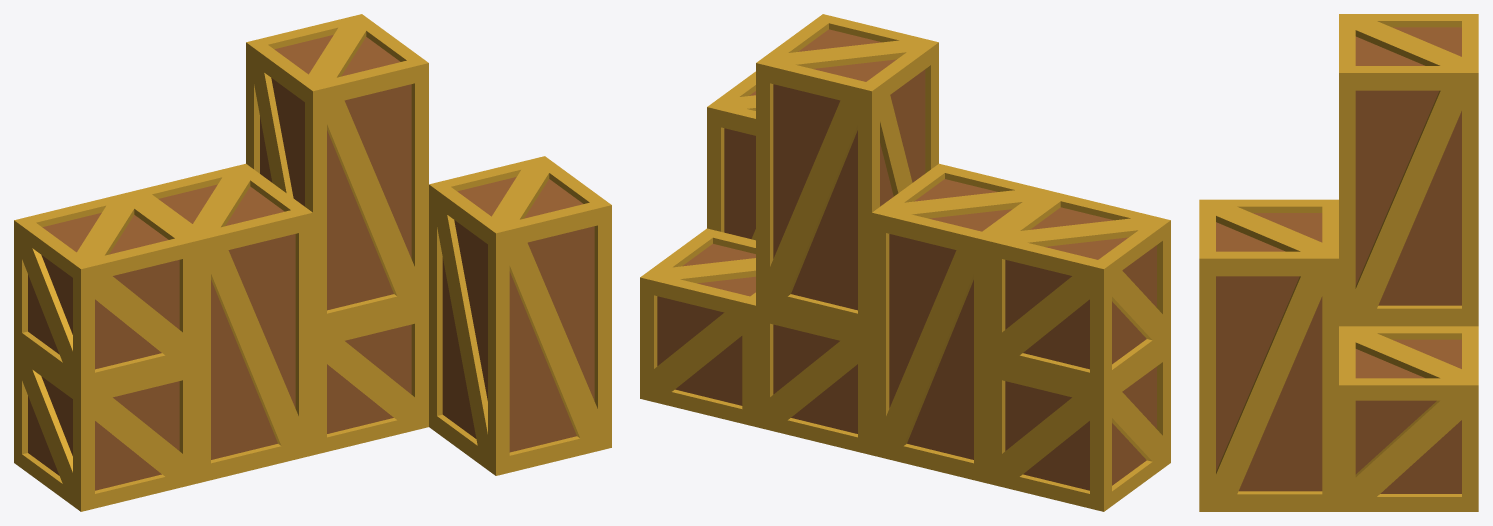
Rendered from CargoBoxes.fbx.
3 renders of one model, left to right at view 1: azimuth 30°, elevation 25°; view 2: azimuth 150°, elevation 25°; view 3: azimuth 270°, elevation 25°, orthographic. The views are drawn at different scales.
Visible parts, largest first — view 1: Cube.006, Cube.002, Cube.001, Cube.004, Cube.005, Cube; view 2: Cube.002, Cube.001, Cube.004, Cube.005, Cube.003, Cube, Cube.006; view 3: Cube.002, Cube.006, Cube.003.
Boxes of the visible parts, x1,y1,x2,y2 form: Cube.006: [429, 156, 611, 475]; Cube.002: [246, 14, 428, 333]; Cube.001: [130, 163, 312, 483]; Cube.004: [14, 192, 196, 390]; Cube.005: [14, 342, 196, 511]; Cube: [313, 306, 428, 455]; Cube.002: [756, 14, 938, 333]; Cube.001: [872, 163, 1054, 483]; Cube.004: [988, 192, 1170, 390]; Cube.005: [988, 342, 1170, 511]; Cube.003: [640, 228, 755, 426]; Cube: [756, 306, 871, 455]; Cube.006: [707, 71, 755, 240]; Cube.002: [1339, 14, 1478, 326]; Cube.006: [1199, 199, 1338, 511]; Cube.003: [1339, 326, 1478, 511].
Size of the model in its own units: 4 by 3 by 2.
